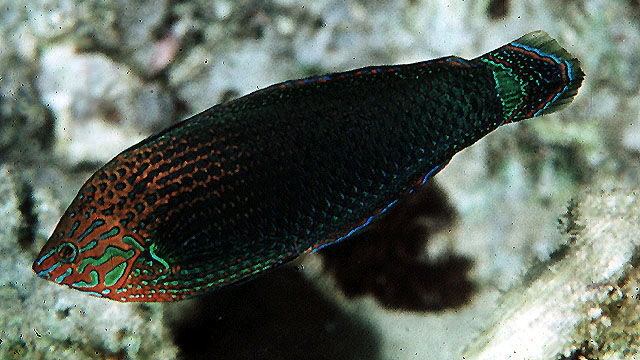fish: (32, 29, 586, 303)
